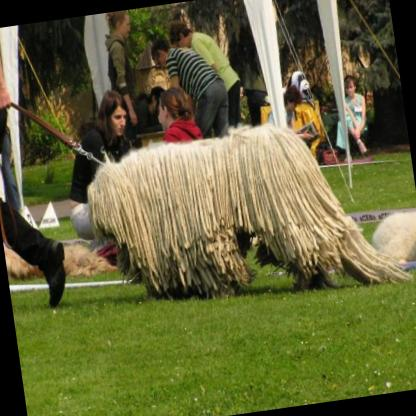komondor: (60, 102, 412, 328)
